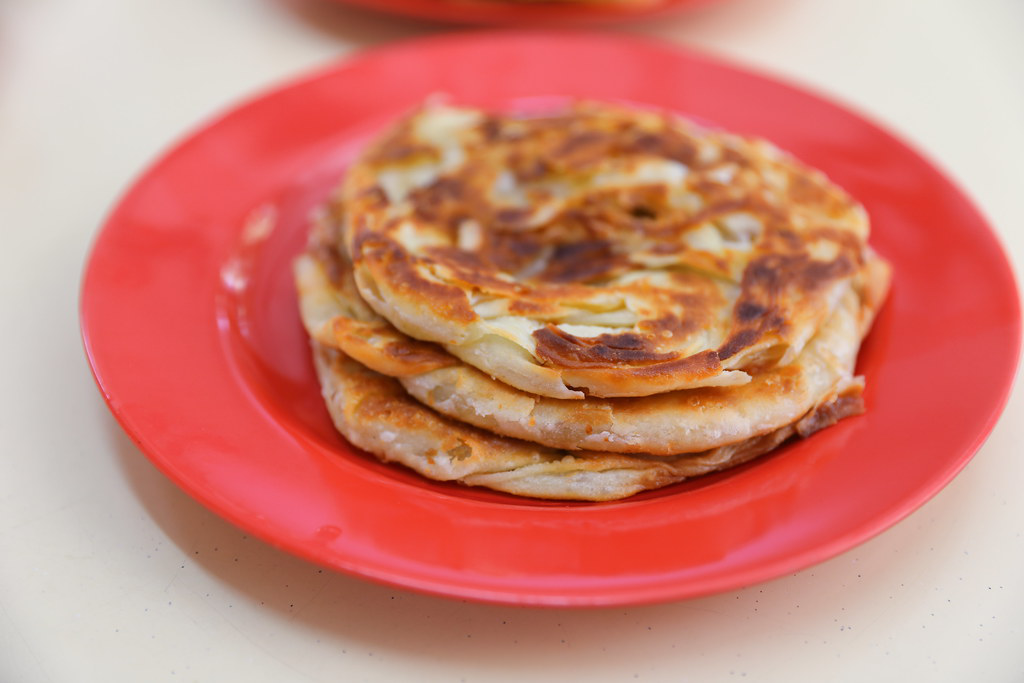Prata: (291, 87, 895, 485)
